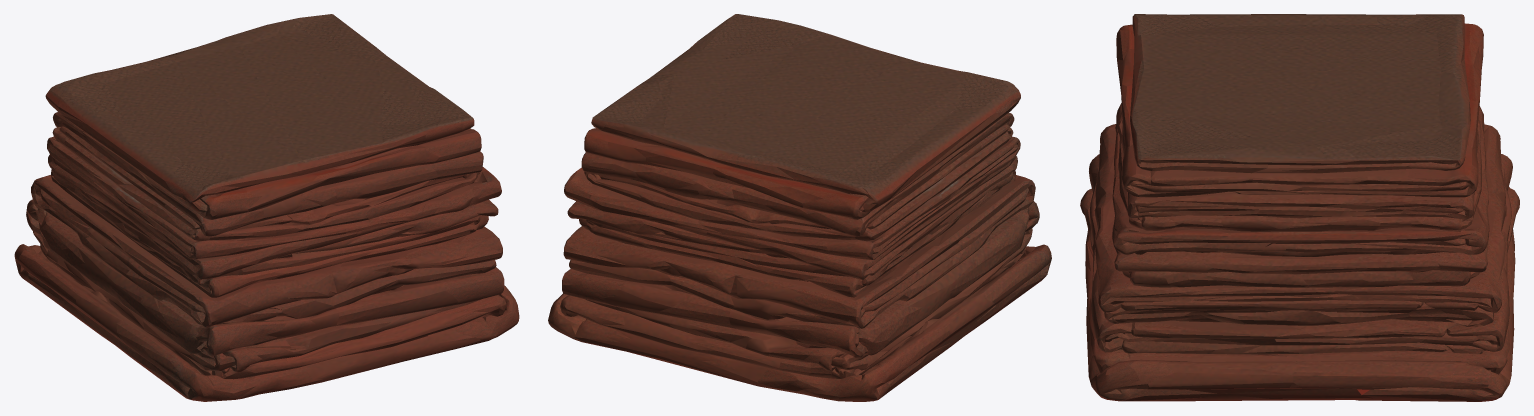
Rendered from DEC_COLOR_CLOTH_001_old.glb.
3 views of the same model, side by side, from view 1: azimuth 30°, elevation 25°; view 2: azimuth 150°, elevation 25°; view 3: azimuth 270°, elevation 25° (orthographic). The views are drawn at different scales.
Bounding box in the file's own units: 1.9 × 1.12 × 1.89.
1 material, 1 textured.
